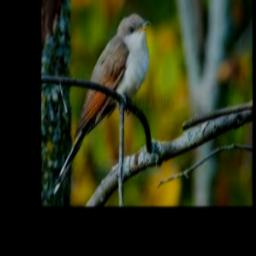Cuckoo: (52, 13, 151, 194)
